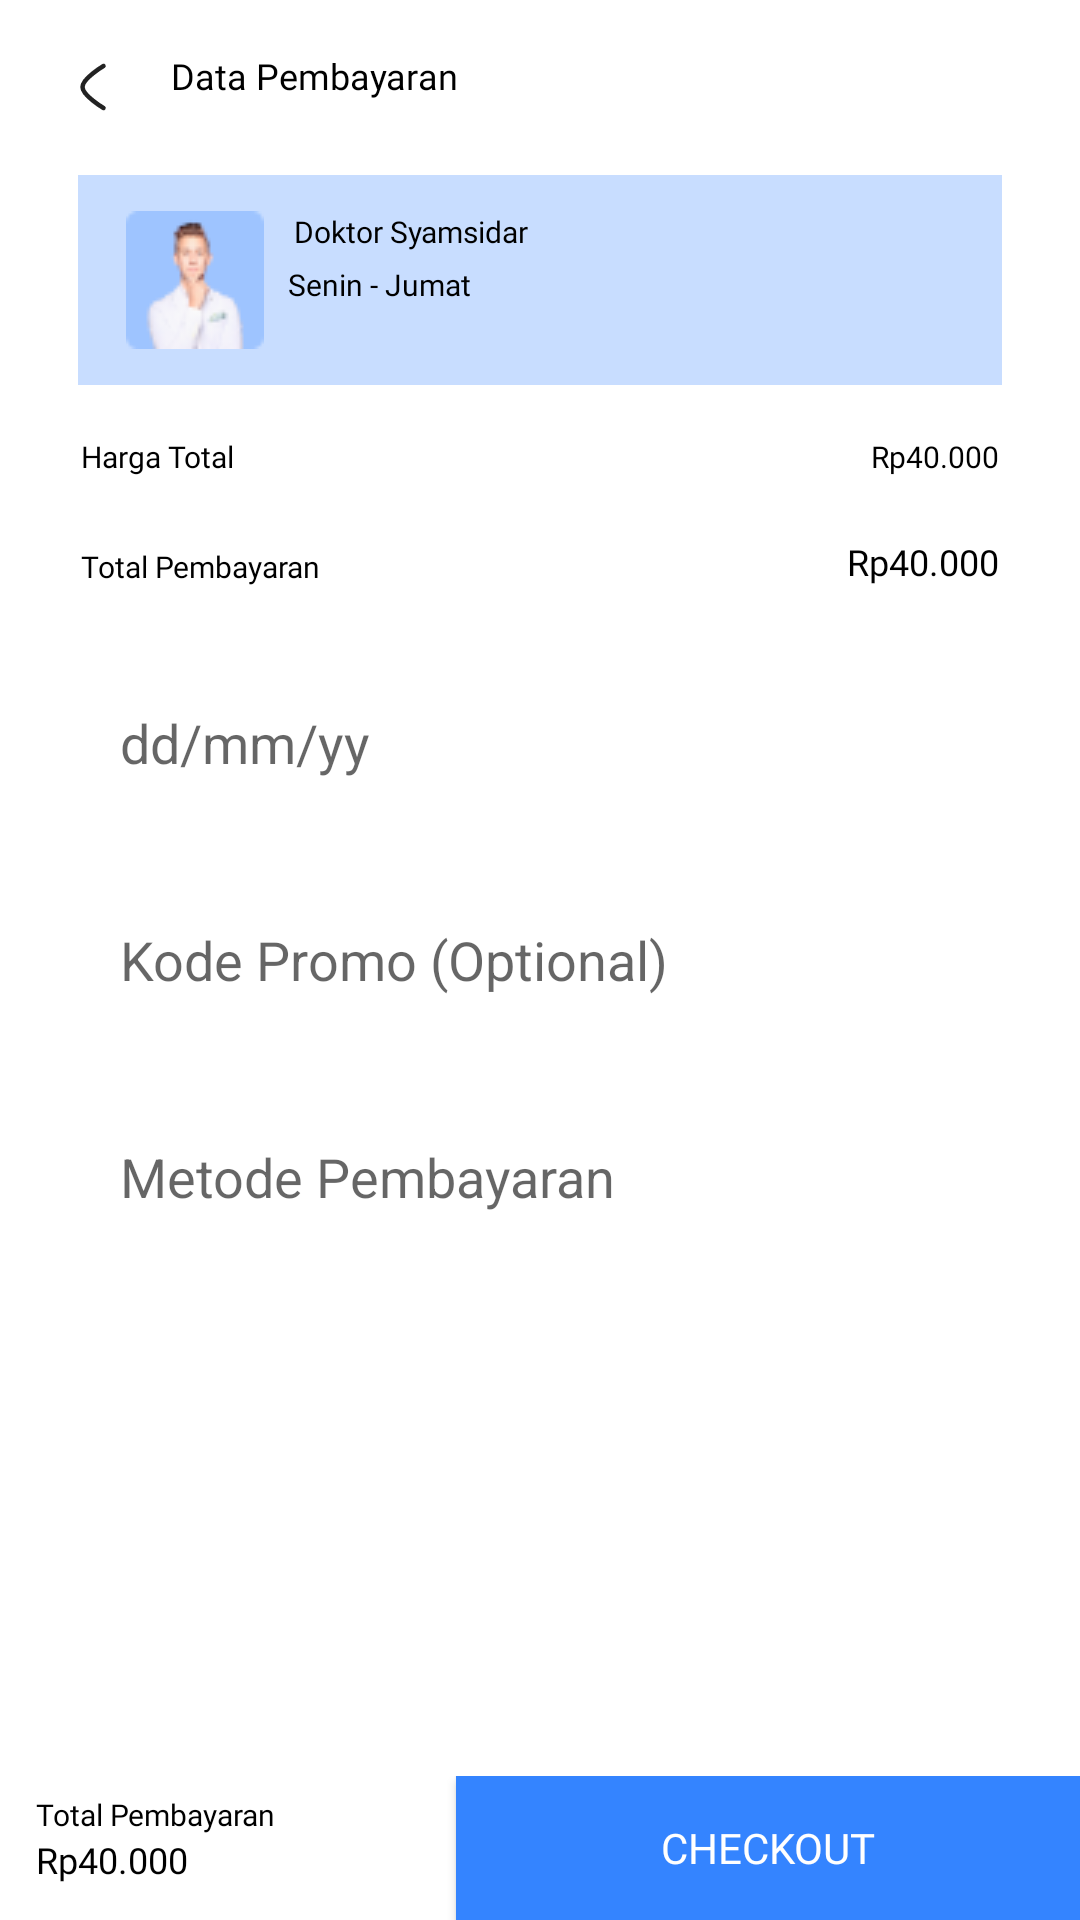

Screen size 1080w x 1920h. Icon name, then its center in pixels as (x=x, y=y):
back: (x=93, y=87)
